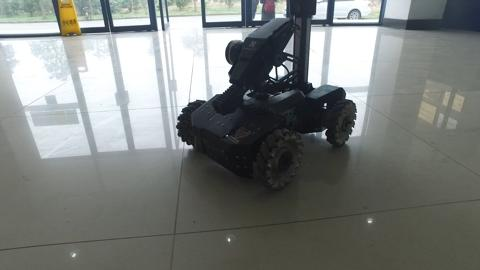car: (281, 1, 370, 23)
chariot: (173, 1, 358, 190)
